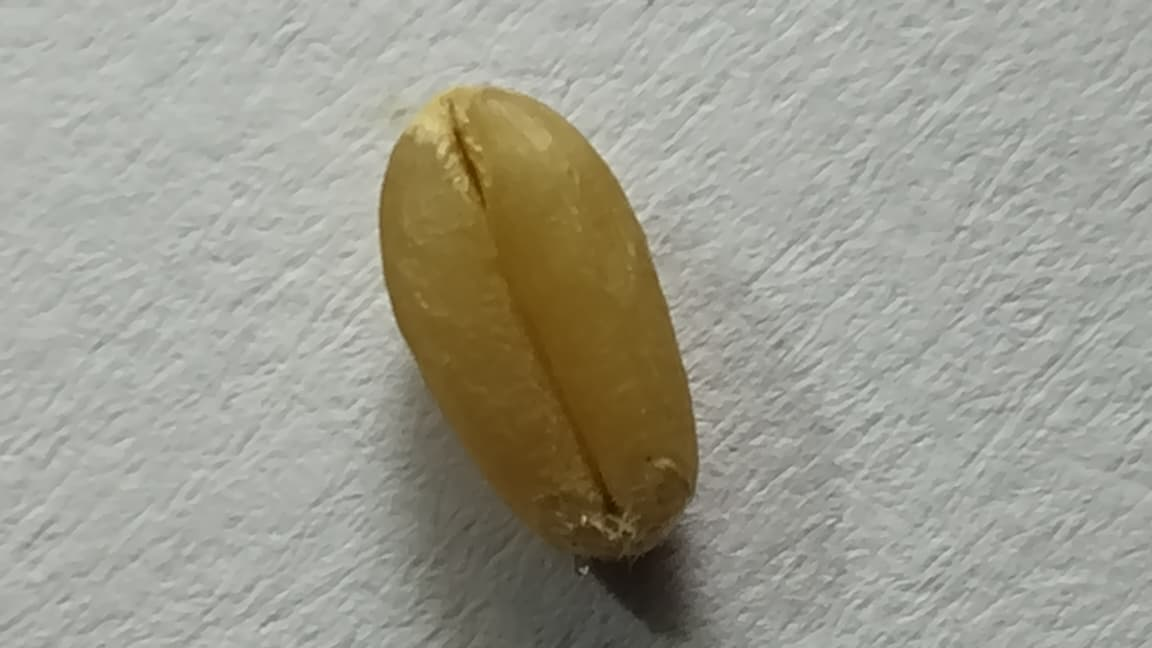healthy: (381, 89, 697, 555)
